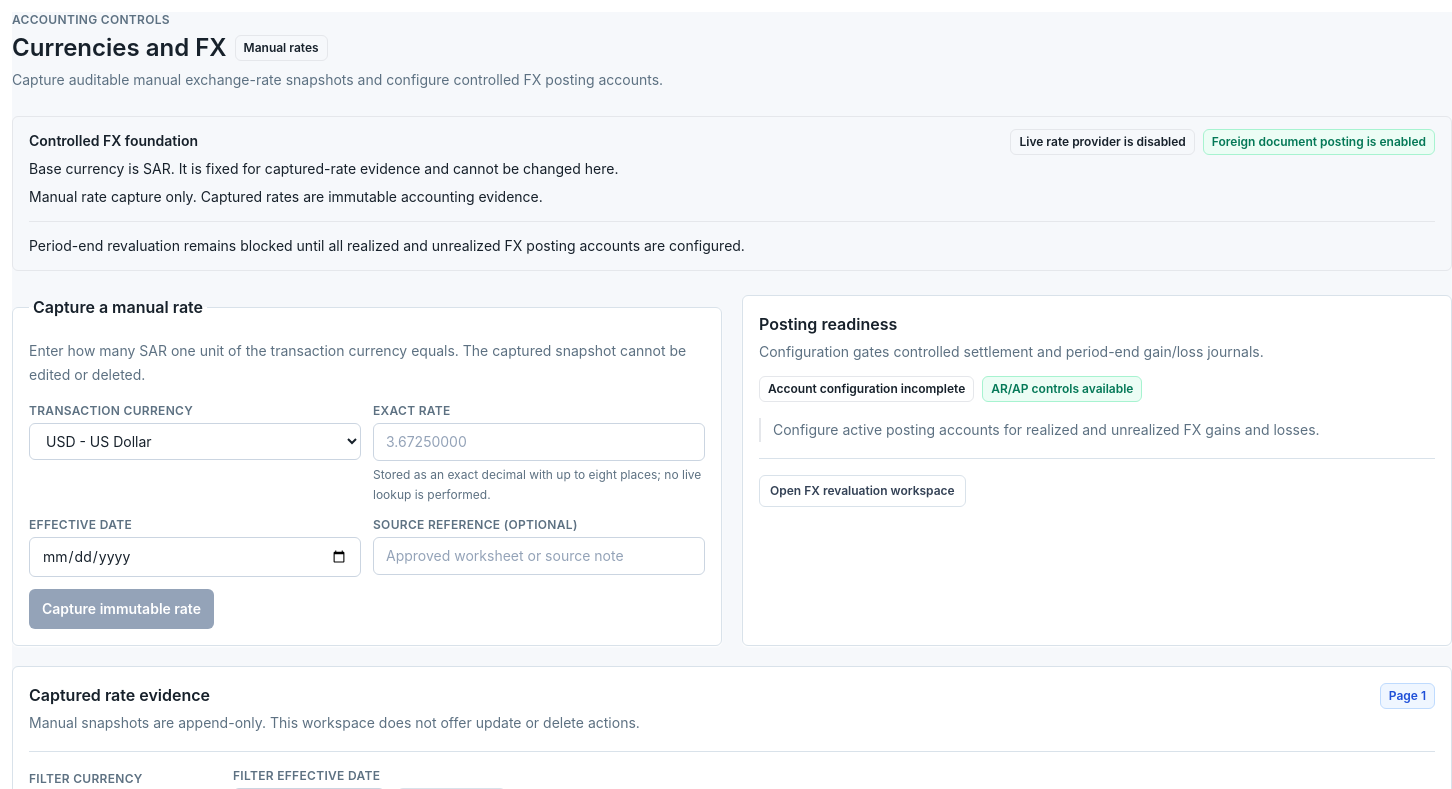
Test case: CurrenciesAndFxSettingsPage › posts a manual immutable rate and refreshes rate evidence
Select "EUR - Euro" in the dropdown labelled "Transaction currency" at (195, 442), box [29,423,361,460]
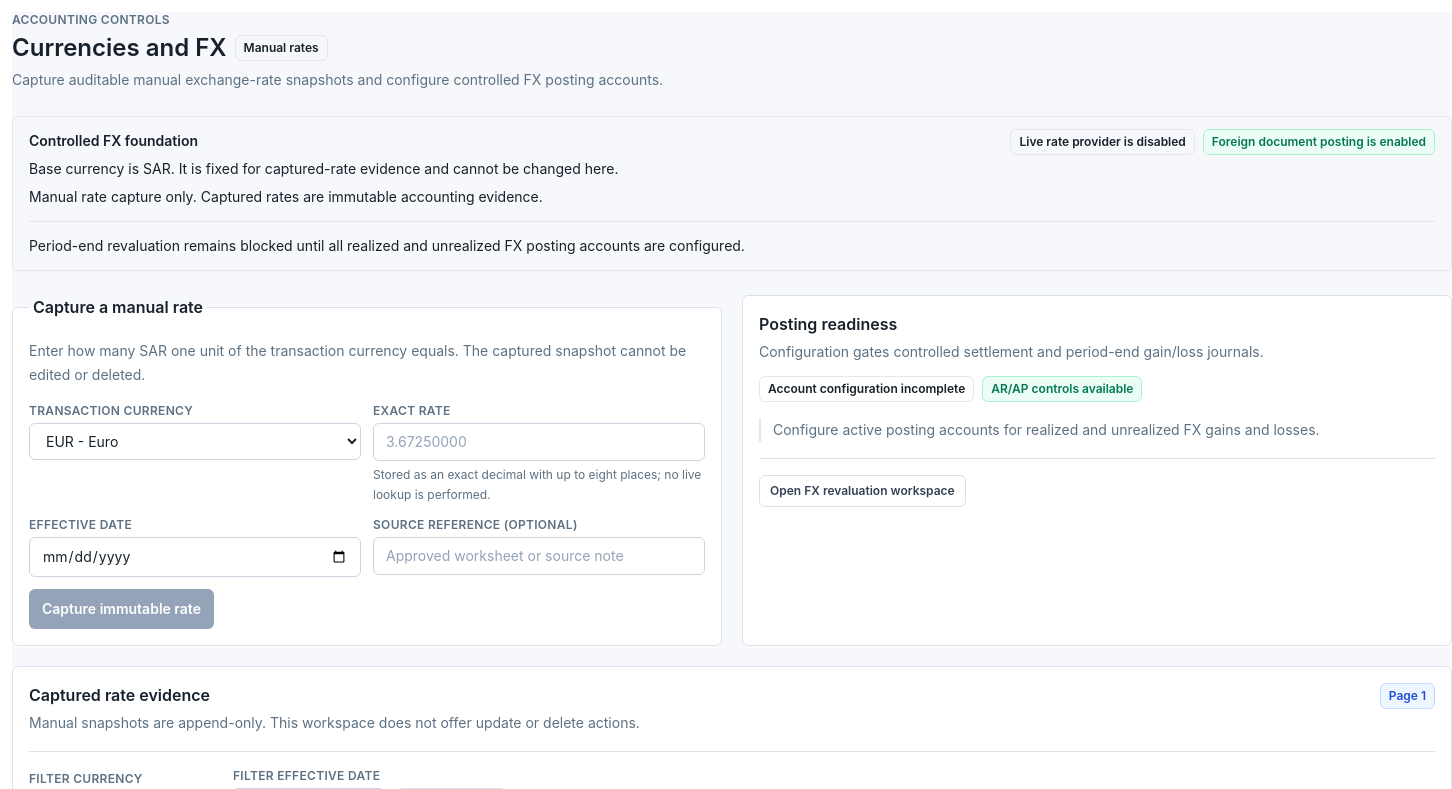
Type "4.12500000" into the field labelled "Exact rate" at (539, 442), box [373,423,705,461]
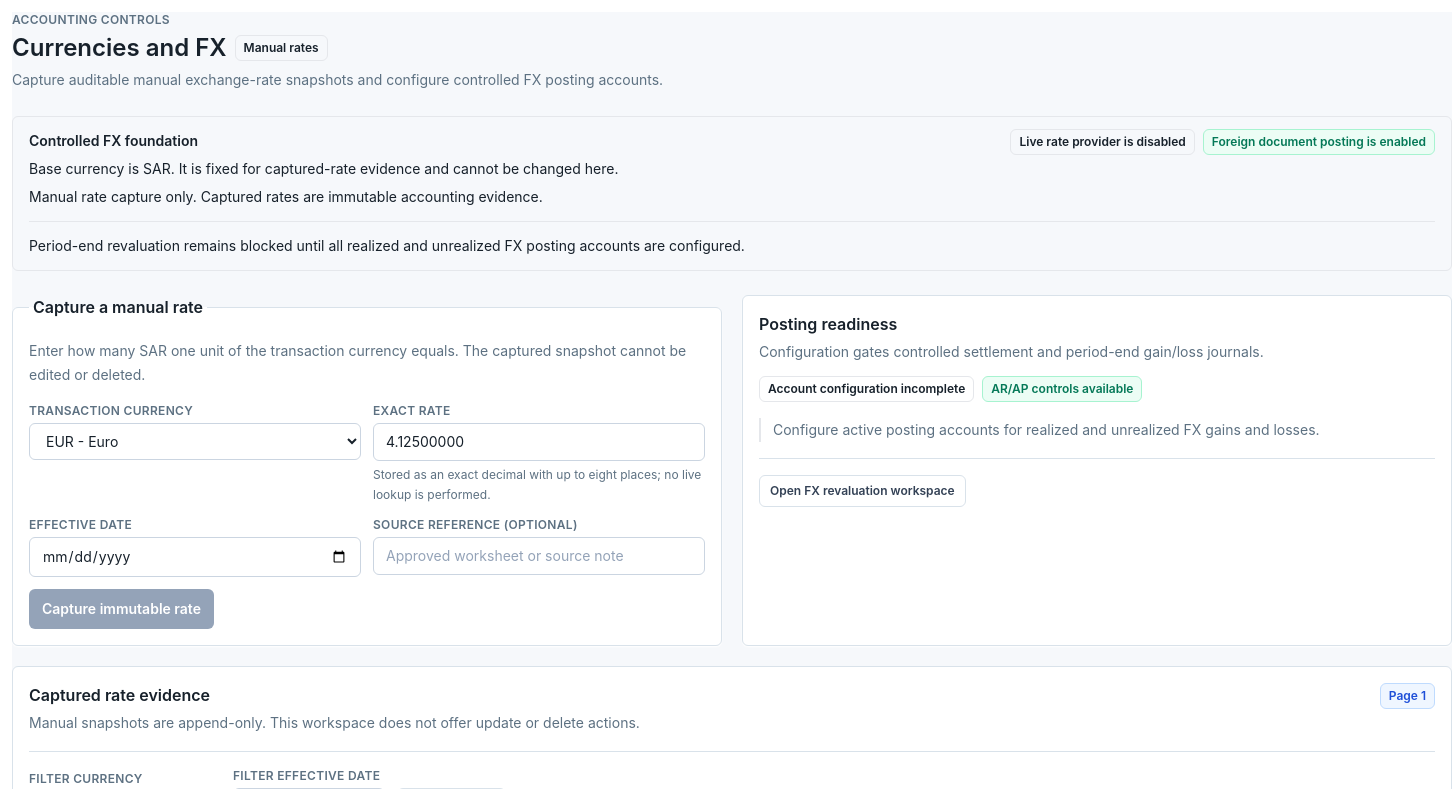
Type "2026-07-10" into the date field labelled "Effective date" at (195, 557), box [29,537,361,577]
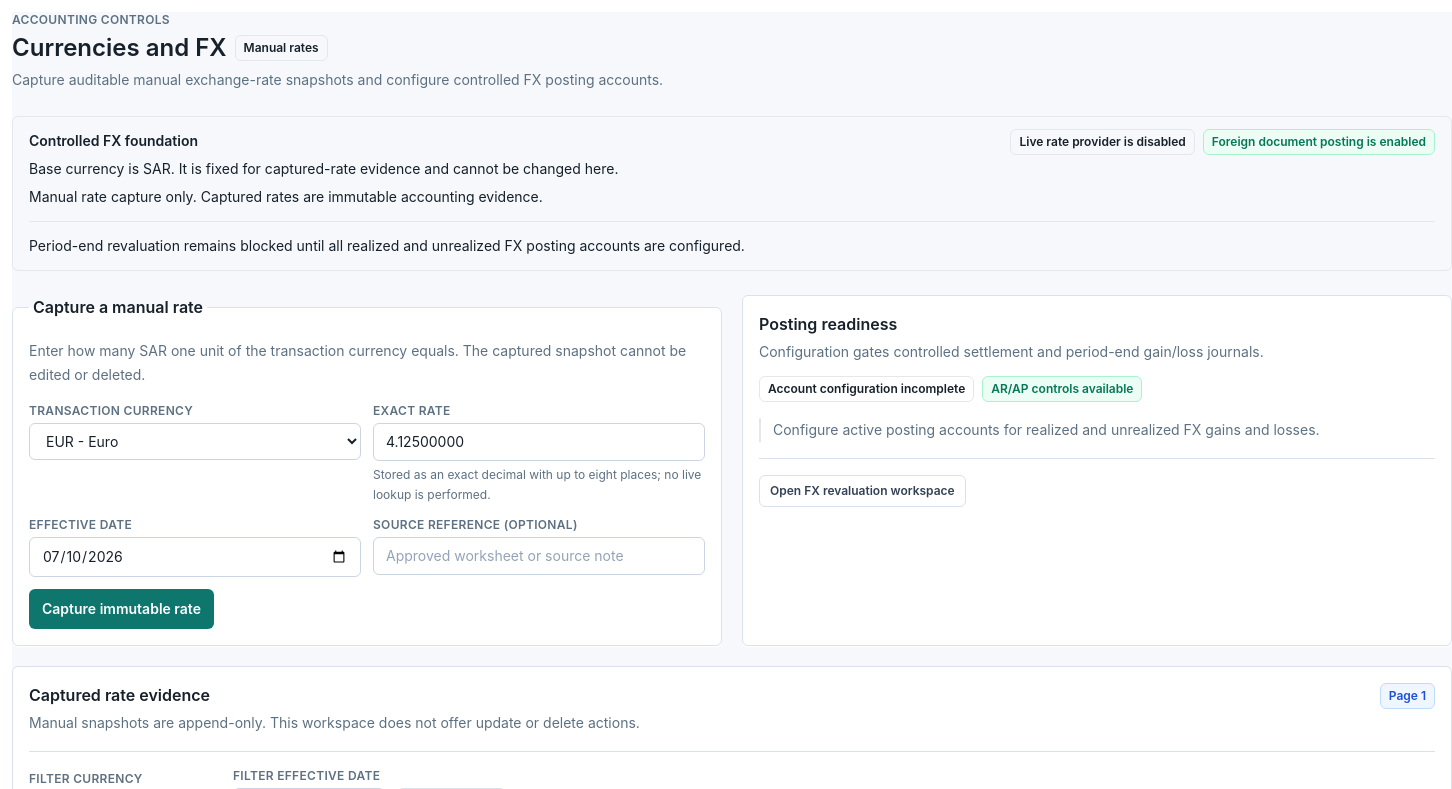
Type "Controller worksheet" into the field labelled "Source reference (optional)" at (539, 556), box [373,537,705,575]
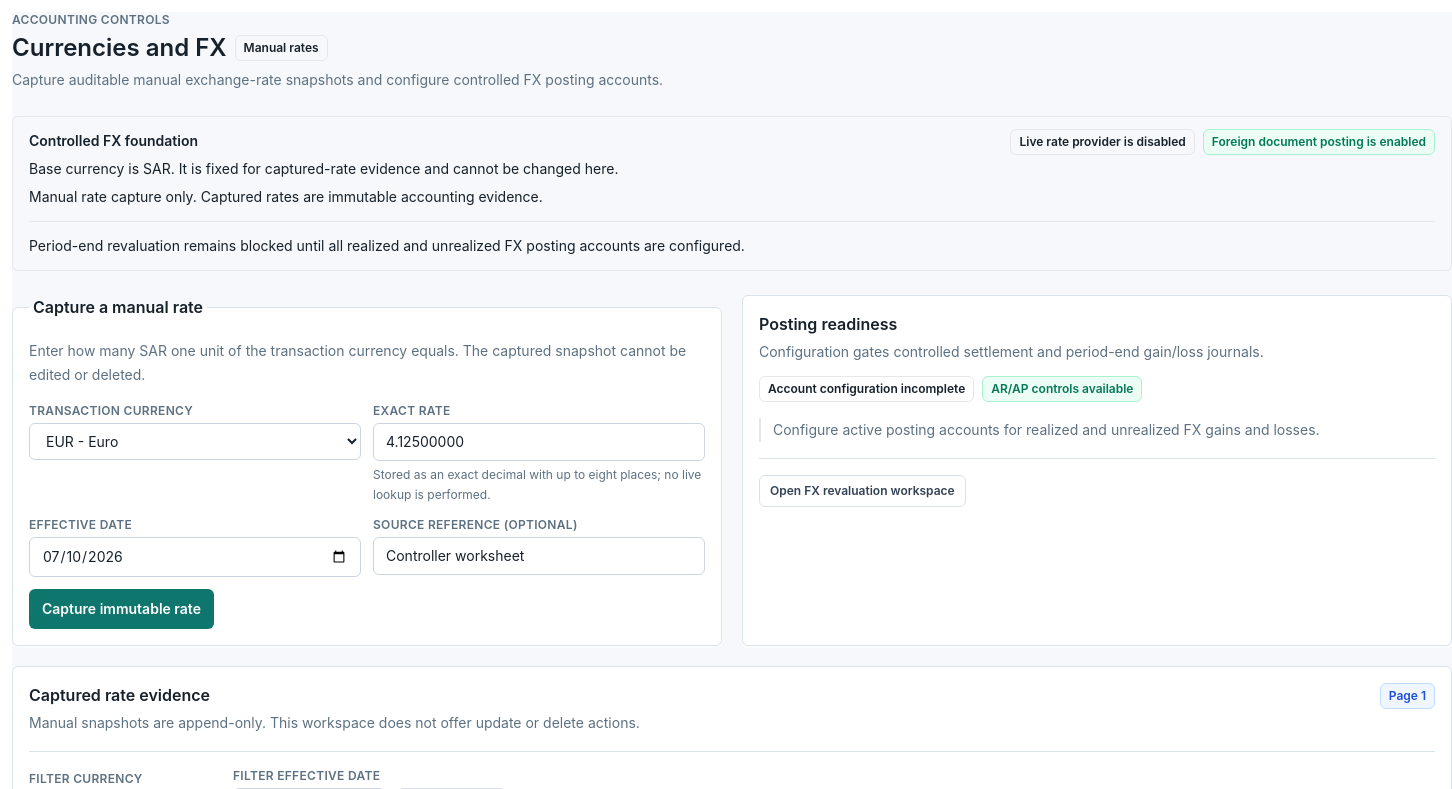
Click the button "Capture immutable rate" at (121, 609), box [29,589,214,629]
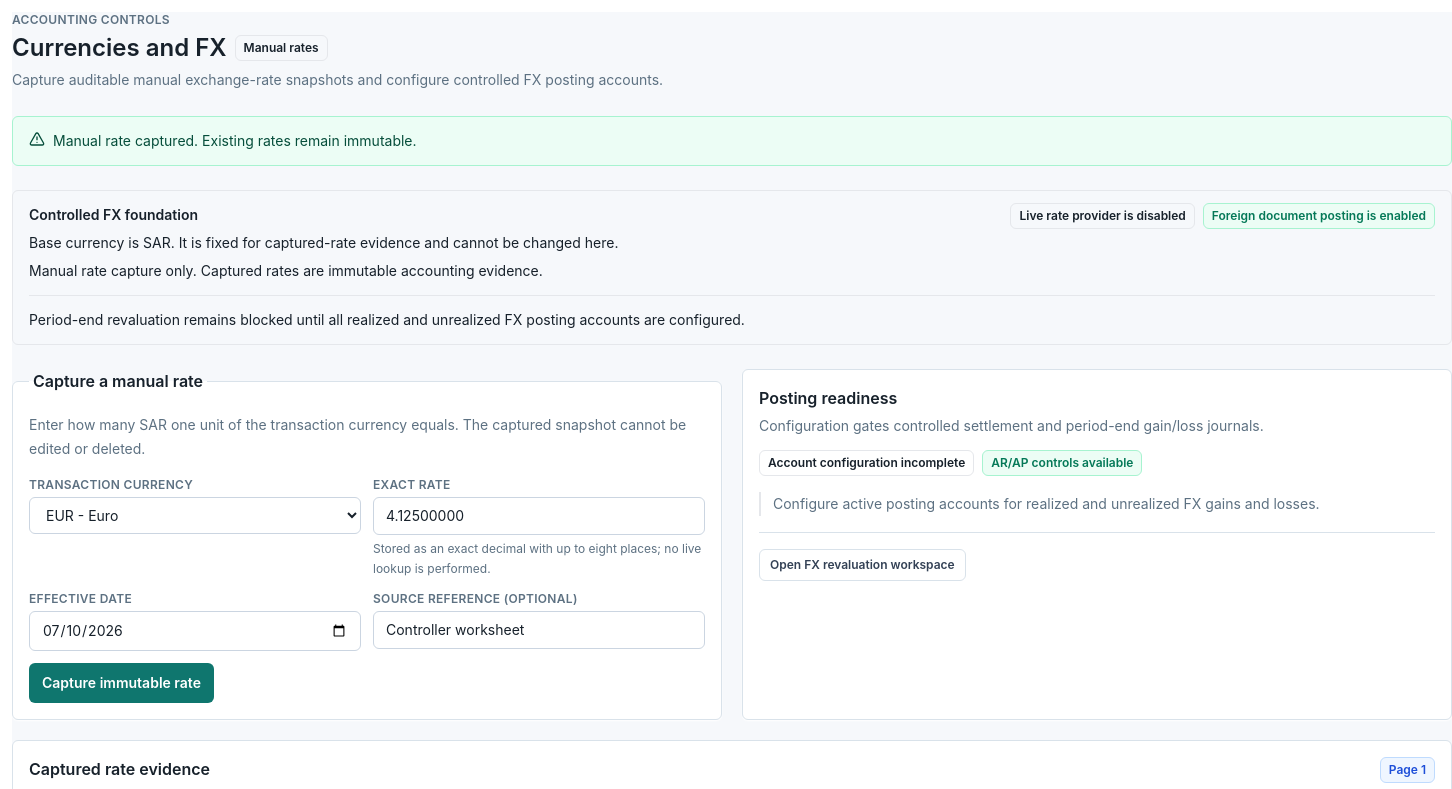
expect the text "Manual rate captured. Existing rates remain immutable." is shown: met, box [53,129,417,153]
